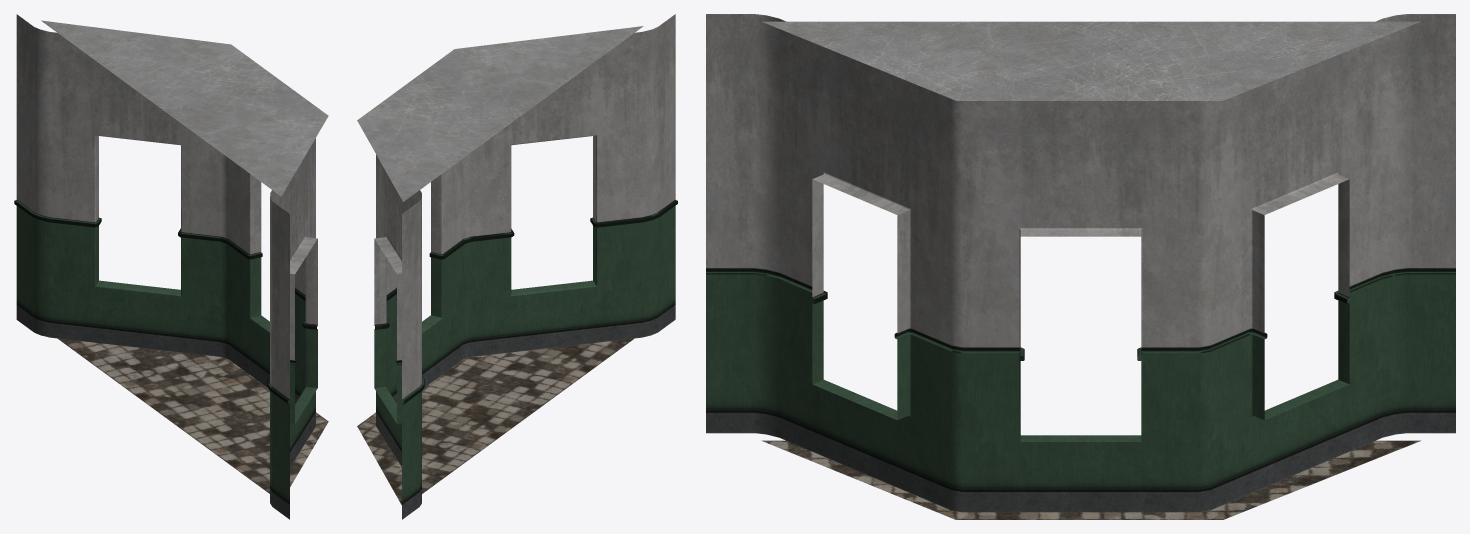
The model's file is Psychiatric_Ward_Infirmary_Arched_Windows_B.glb.
The picture shows the model from 3 angles, left to right: view 1: azimuth 30°, elevation 25°; view 2: azimuth 150°, elevation 25°; view 3: azimuth 270°, elevation 25°; orthographic projection. The views are drawn at different scales.
Parts seen in each view (by area): view 1: Psychiatric_Ward_Infirmary_Arched_Windows_B; view 2: Psychiatric_Ward_Infirmary_Arched_Windows_B; view 3: Psychiatric_Ward_Infirmary_Arched_Windows_B.
Boxes of the visible parts, x1,y1,x2,y2 form: Psychiatric_Ward_Infirmary_Arched_Windows_B: [14, 14, 328, 519]; Psychiatric_Ward_Infirmary_Arched_Windows_B: [357, 14, 677, 519]; Psychiatric_Ward_Infirmary_Arched_Windows_B: [706, 14, 1455, 519].
Bounding box in the file's own units: 1.67 × 3.7 × 6.
Materials: 3 (3 with a texture image).
